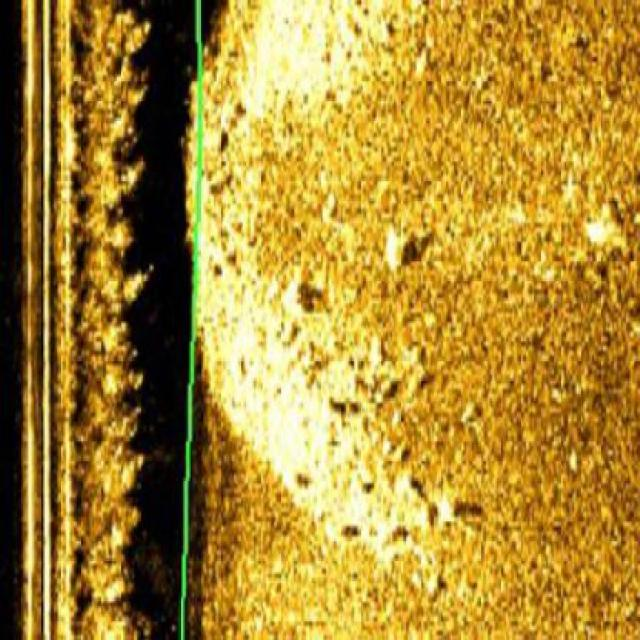bedrock group: (187, 0, 456, 562)
